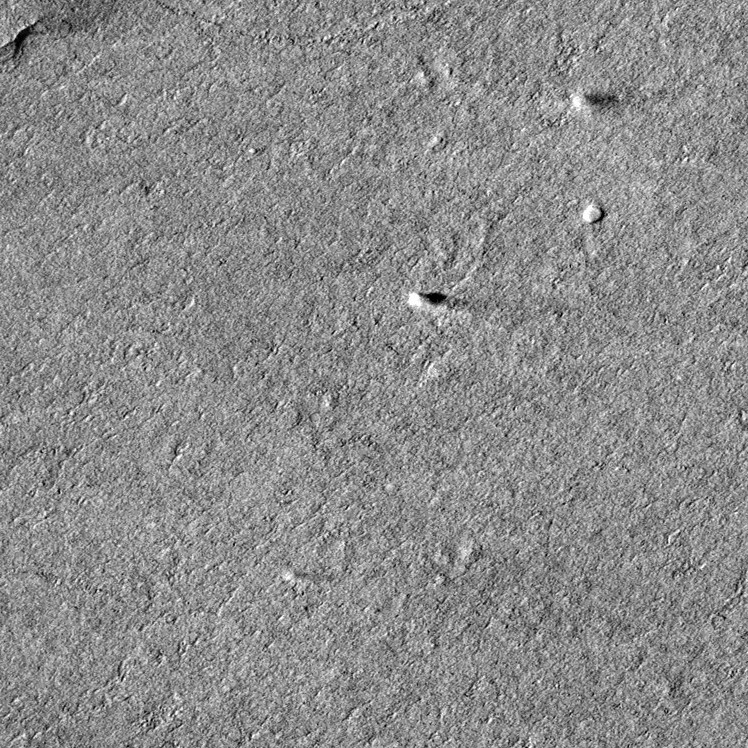dust_devil: (568, 89, 626, 120), (407, 291, 451, 312)
